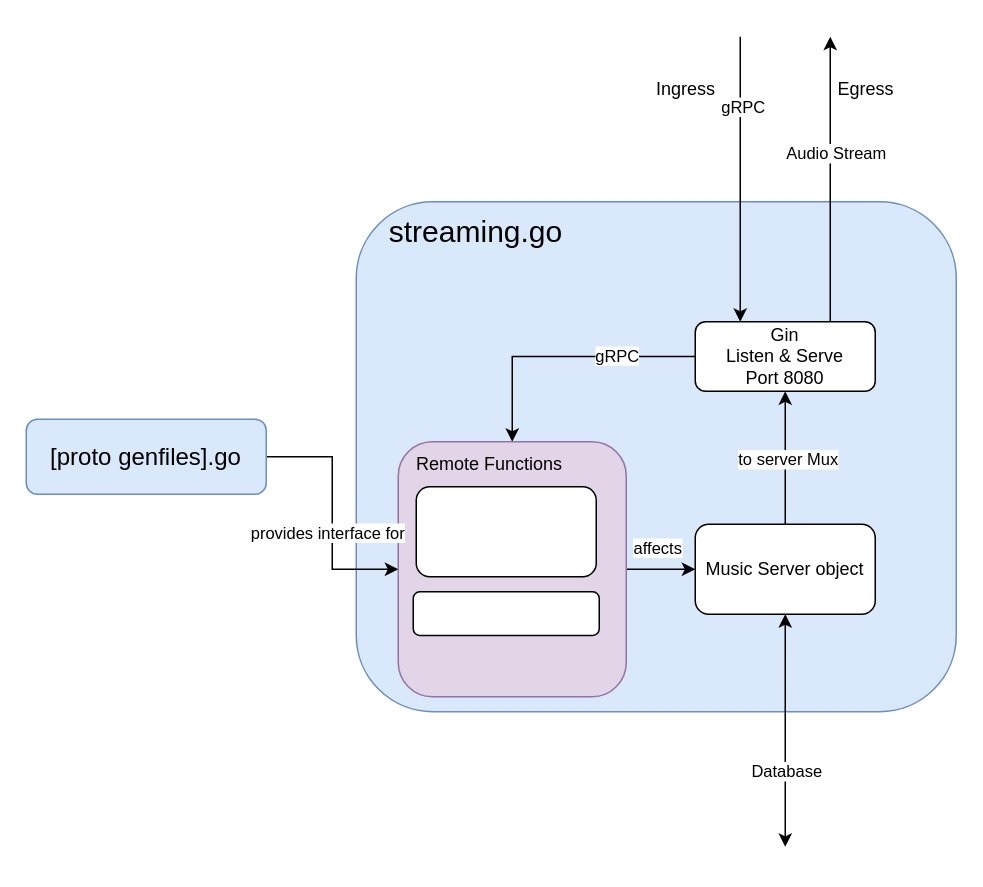
This 983x887 diagram has some shape labels left out. The box of each missing label's shape, as (x1, y1, x2, y2) in pixels:
SelectTrack(int id): (412, 590, 599, 635)
Transport Controls Play() Pause() Stop(): (415, 485, 596, 577)
